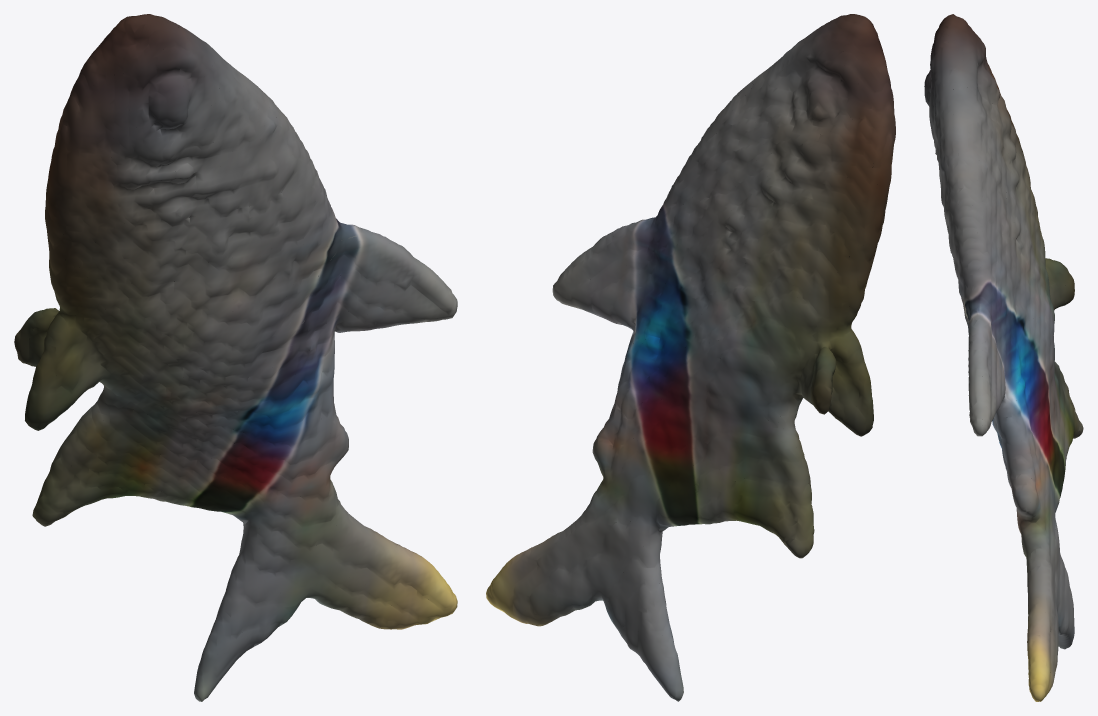
File: paracheirodon-axelrodi.glb
3 renders of one model, left to right at view 1: azimuth 30°, elevation 25°; view 2: azimuth 150°, elevation 25°; view 3: azimuth 270°, elevation 25°, orthographic. The views are drawn at different scales.
Visible parts, largest first — view 1: world; view 2: world; view 3: world.
Boxes of the visible parts, x1,y1,x2,y2 form: world: [14, 14, 457, 701]; world: [486, 14, 895, 701]; world: [924, 14, 1083, 701].
Bounding box in the file's own units: 0.537 × 0.9036 × 0.2234.
Materials: 1 (1 with a texture image).
